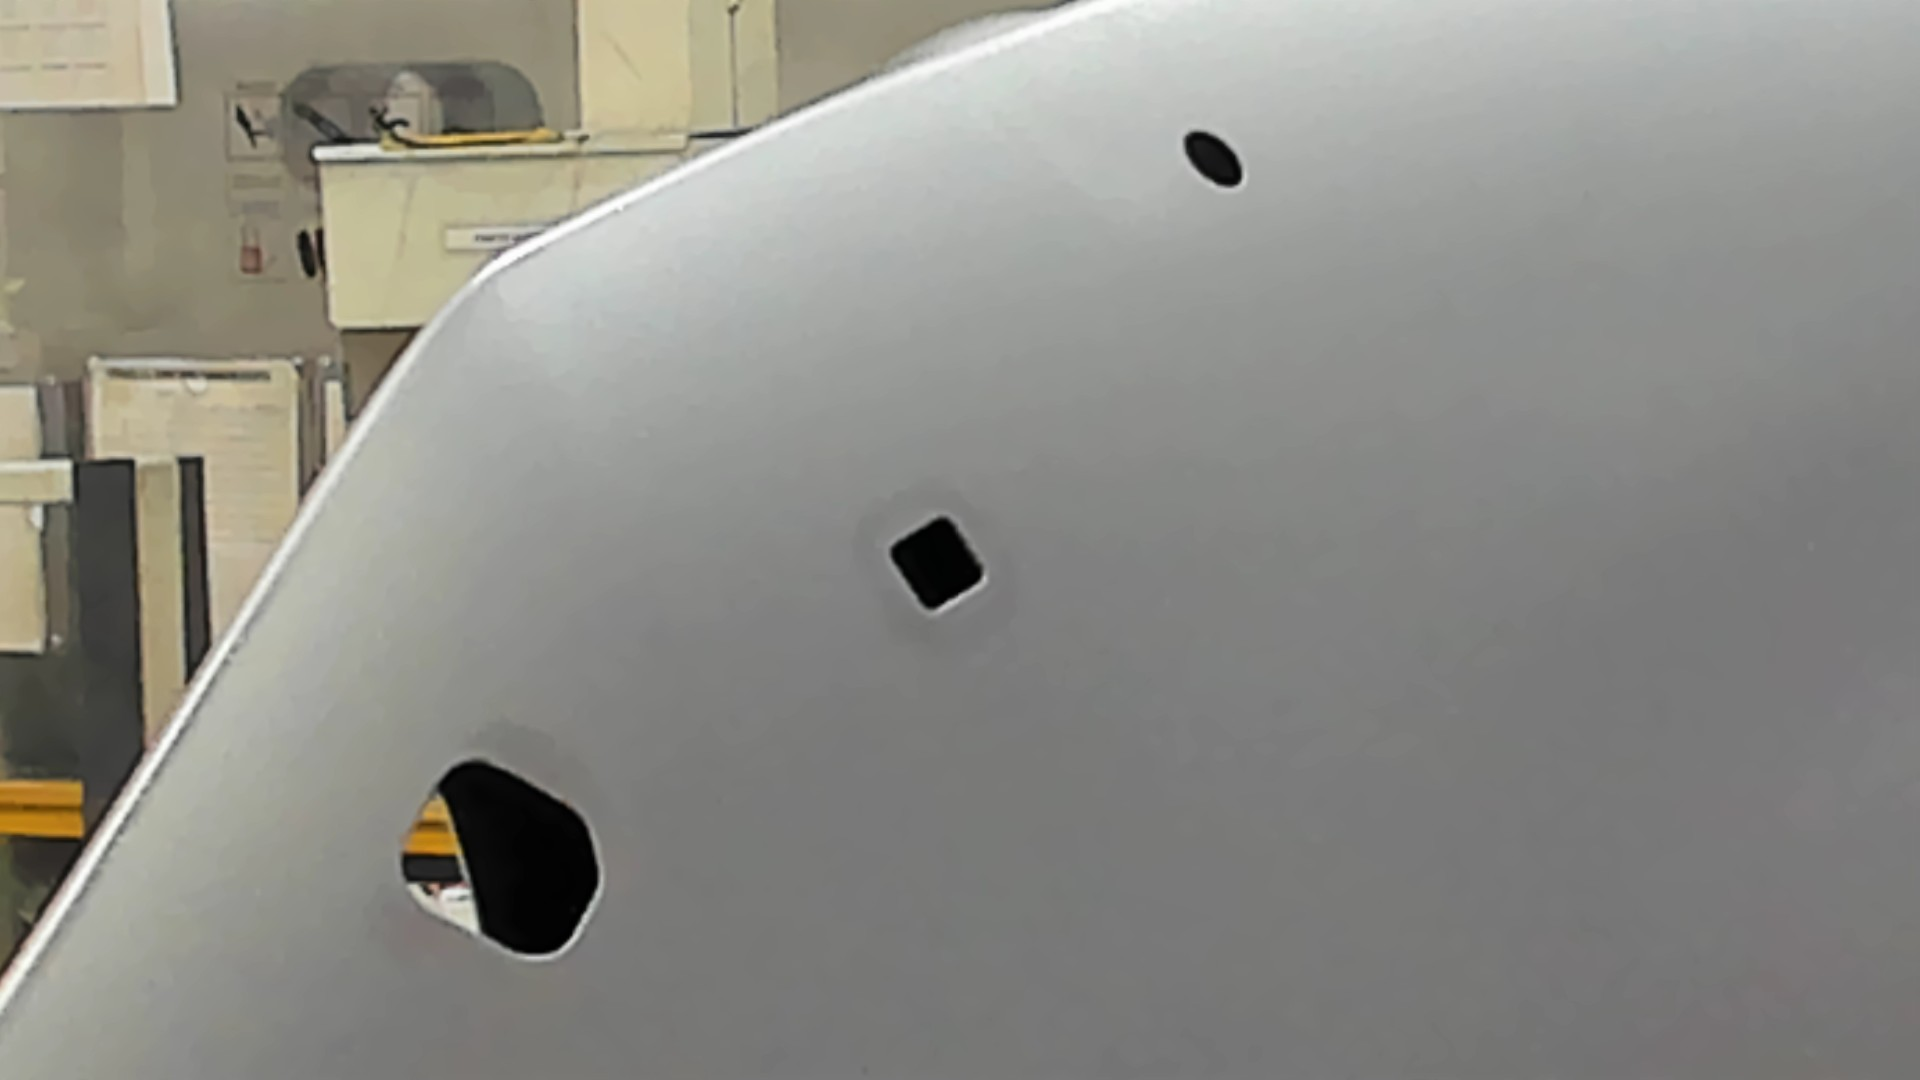Agujero: (886, 516, 992, 616), (1184, 129, 1244, 191)
Agujerote: (401, 757, 604, 964)
